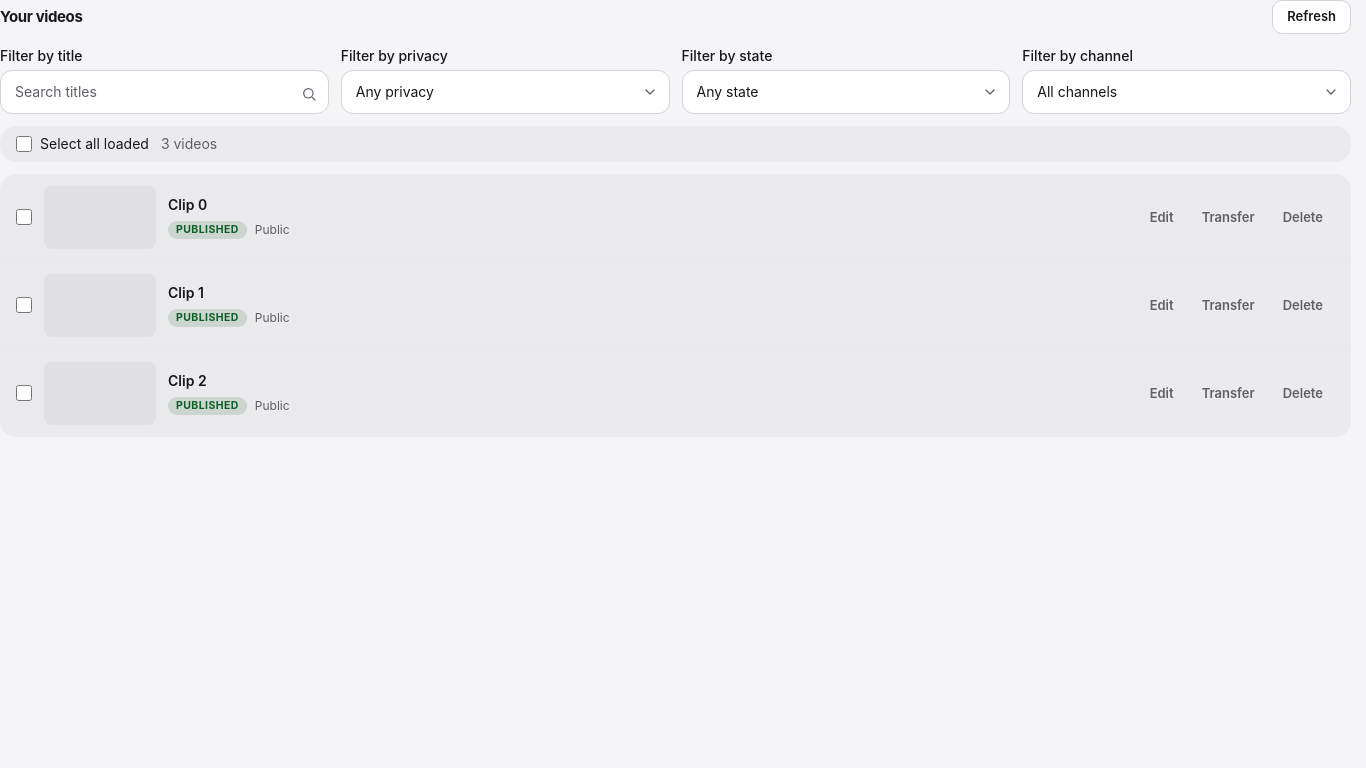
it: MyVideosManager bulk actions › does not claim nothing changed after a network failure, and refreshes the list
Expected: the link "Clip 0" is shown, top-left (168, 196), bottom-right (207, 213)
Click the checkbox named "Include Clip 0 in bulk actions": (24, 217) top-left (16, 209), bottom-right (32, 225)
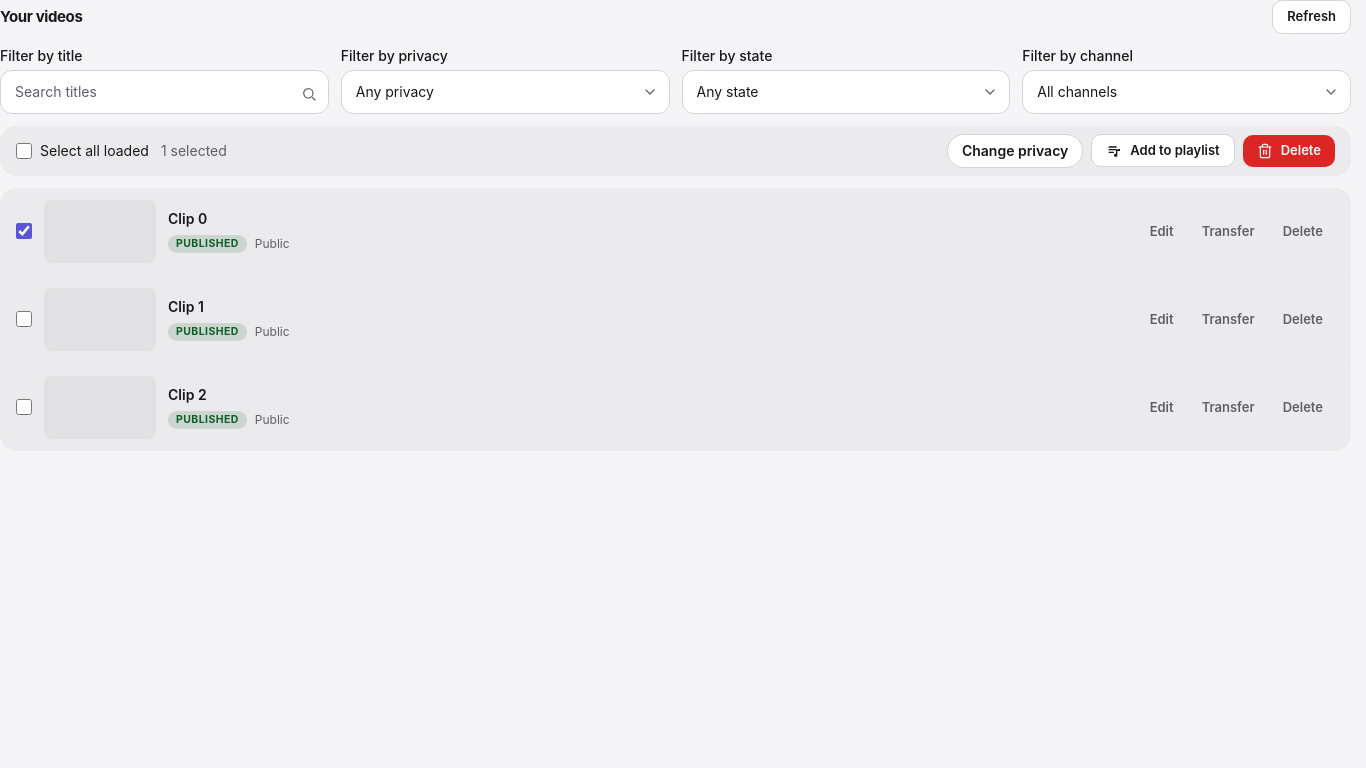
Click the button "Change privacy": (1015, 150) top-left (947, 134), bottom-right (1083, 168)
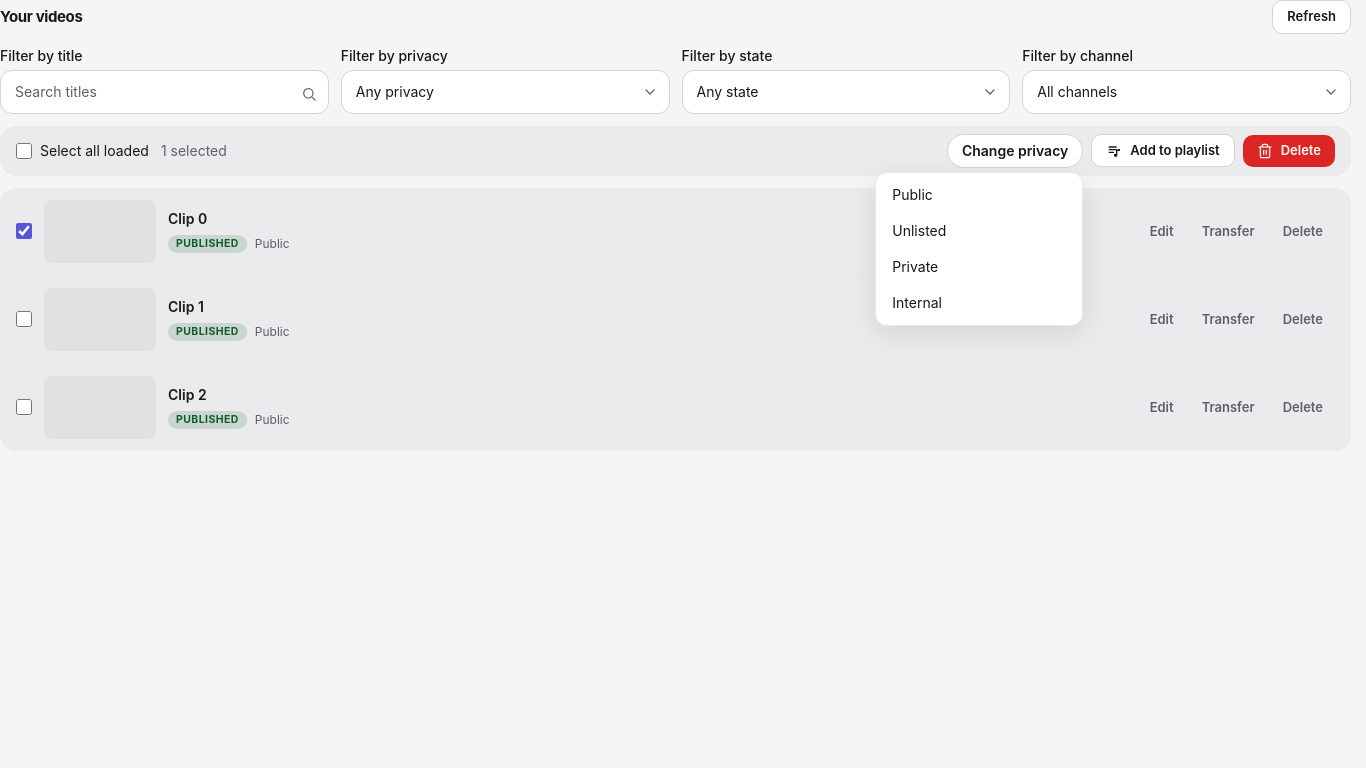
Click the menu item "Internal": (979, 302) top-left (880, 284), bottom-right (1078, 320)
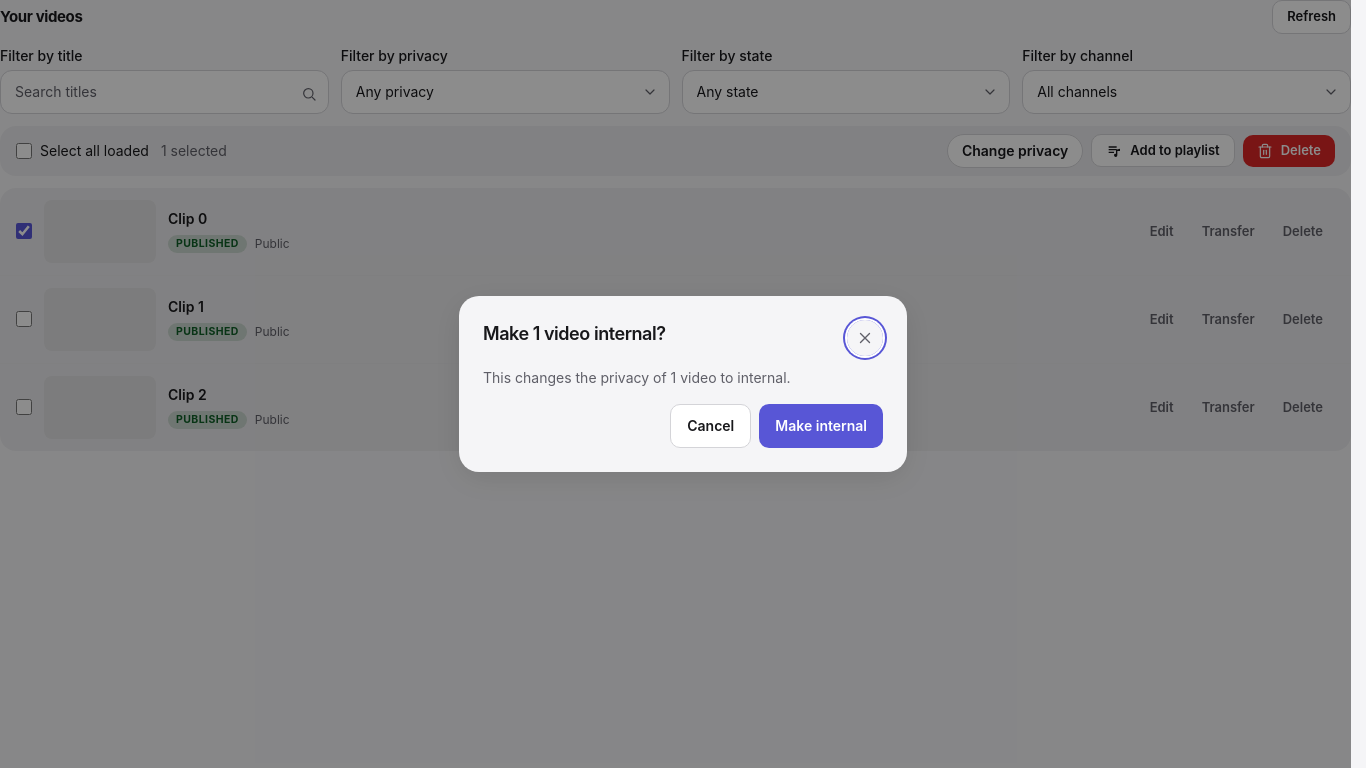
Click the button "Make internal": (821, 426) top-left (759, 404), bottom-right (883, 448)
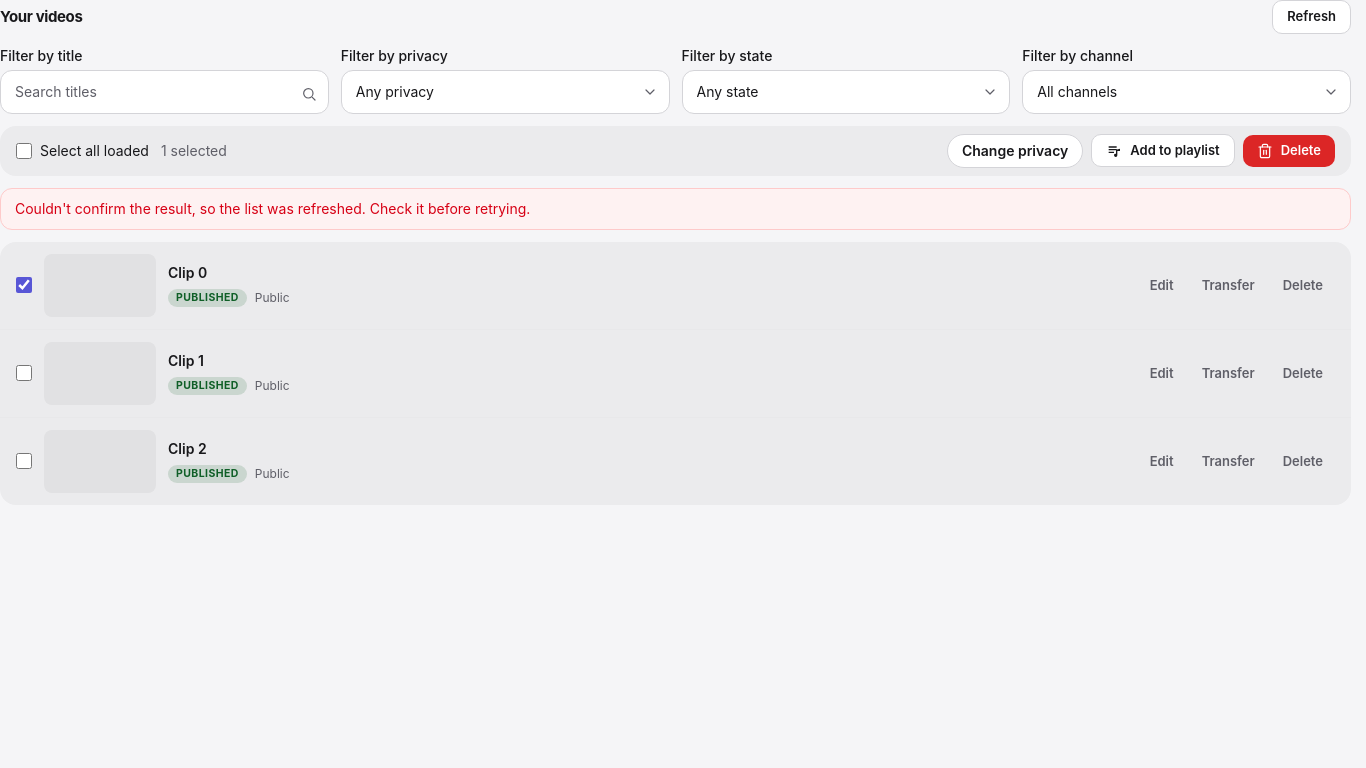
Result: the text "Couldn't confirm the result" is shown at top-left (15, 200), bottom-right (530, 216)
